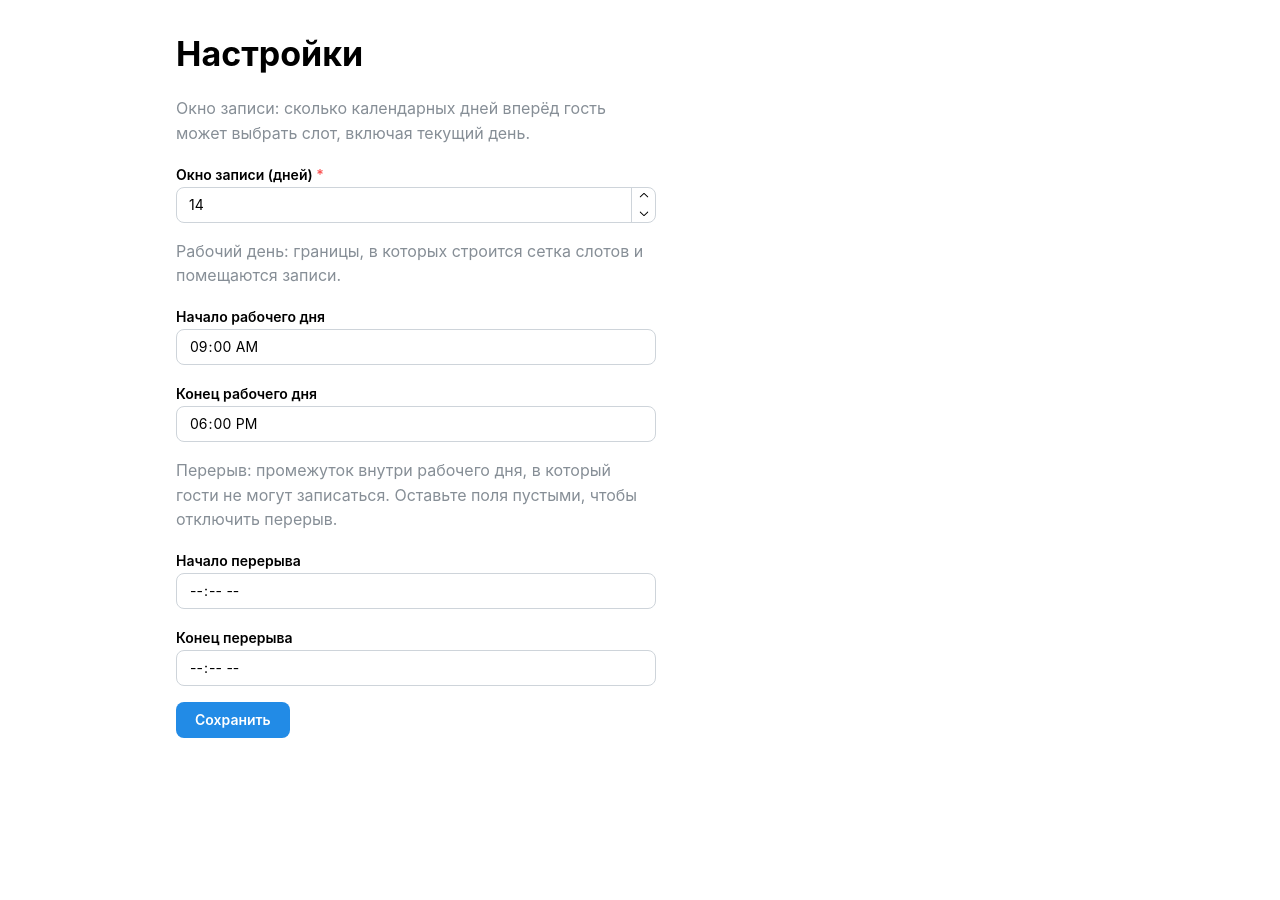
Scenario: SettingsPage (настройки календаря) › сохраняет новое значение окна записи без перерыва
Replace the text in the field labelled "Окно записи (дней) *" with "30" at (416,205), box [176, 187, 656, 223]
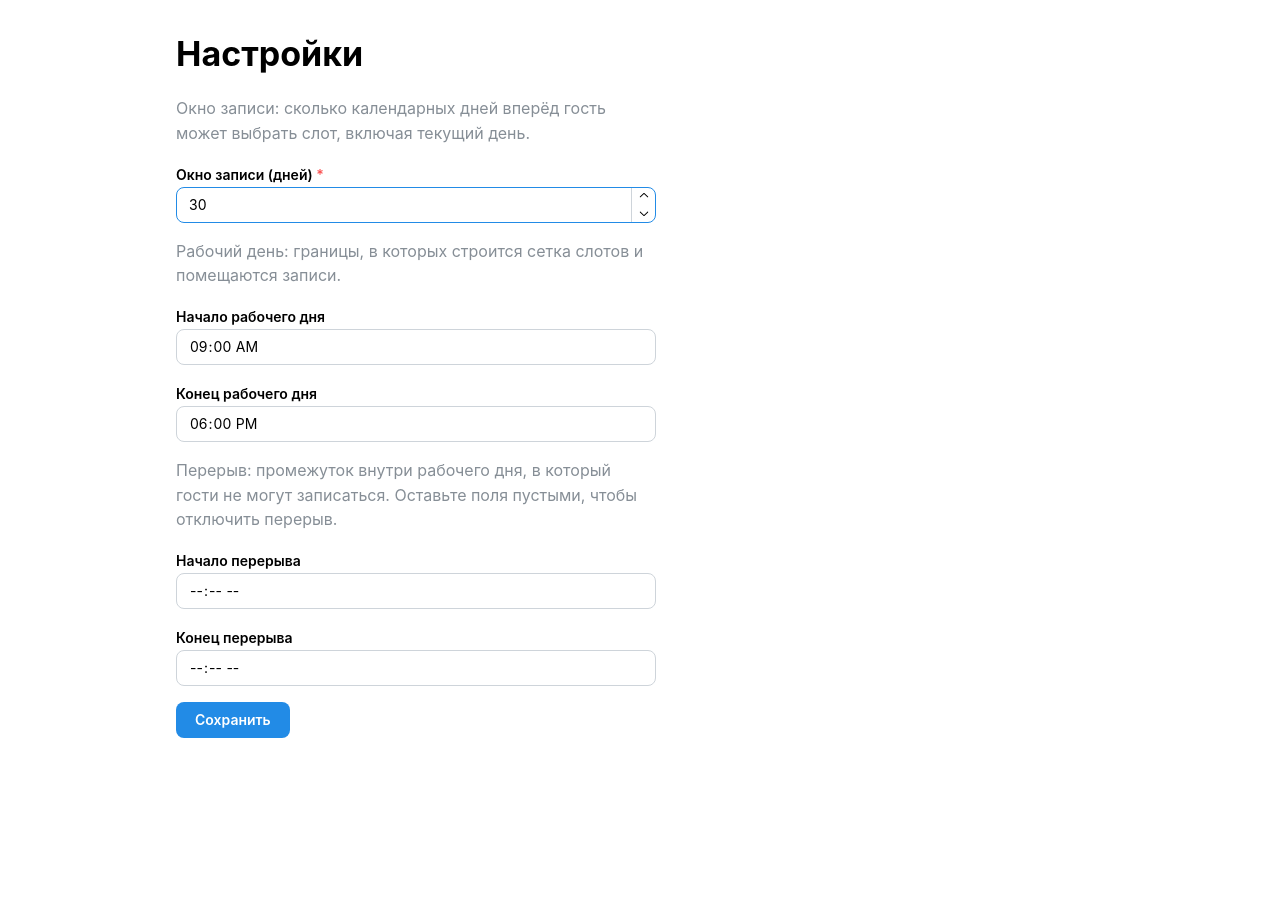
Click the button "Сохранить".
click(233, 720)  # box [176, 702, 290, 738]
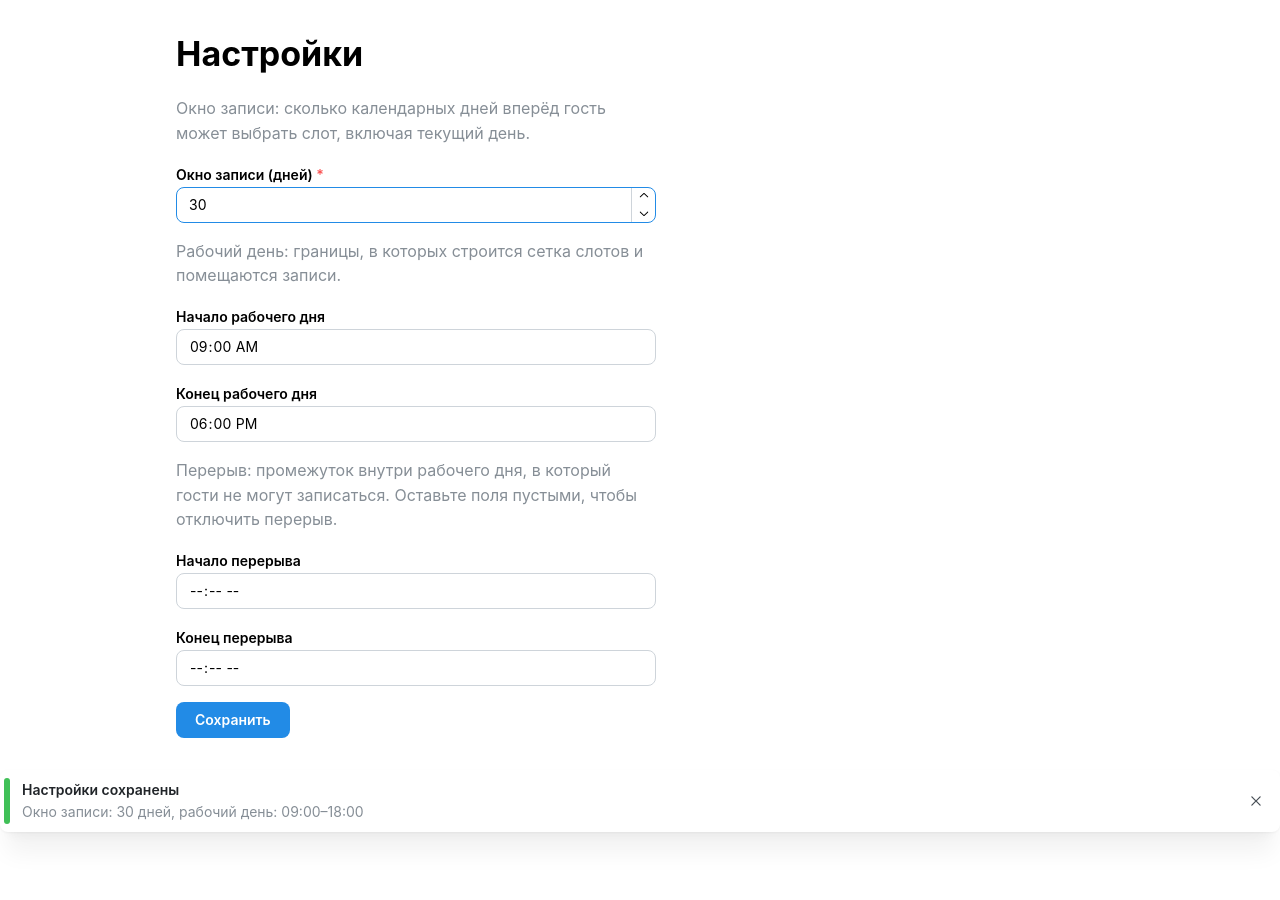
Check: the text "Настройки сохранены" is shown, box [22, 781, 179, 798]
